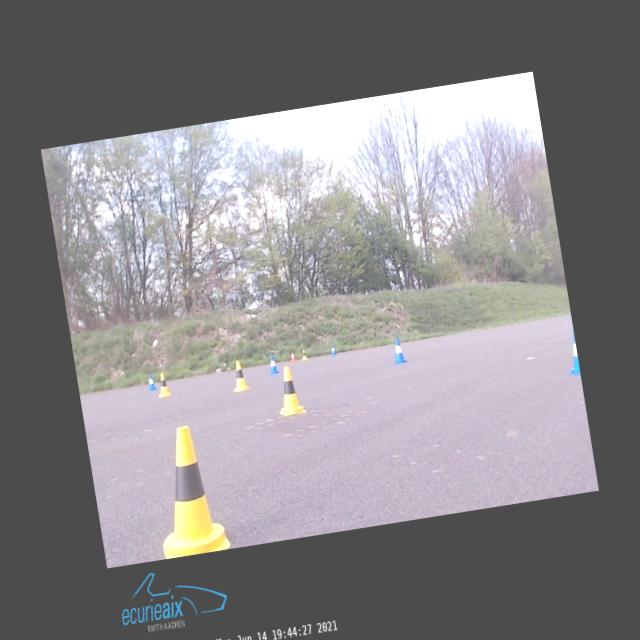blue_cone: (563, 332, 581, 377), (391, 338, 407, 364), (268, 354, 279, 374), (146, 374, 157, 391), (329, 345, 336, 356)
orange_cone: (290, 351, 296, 361)
yellow_cone: (146, 422, 232, 559), (272, 364, 306, 416), (228, 359, 250, 392), (155, 372, 171, 398), (300, 348, 308, 361)
